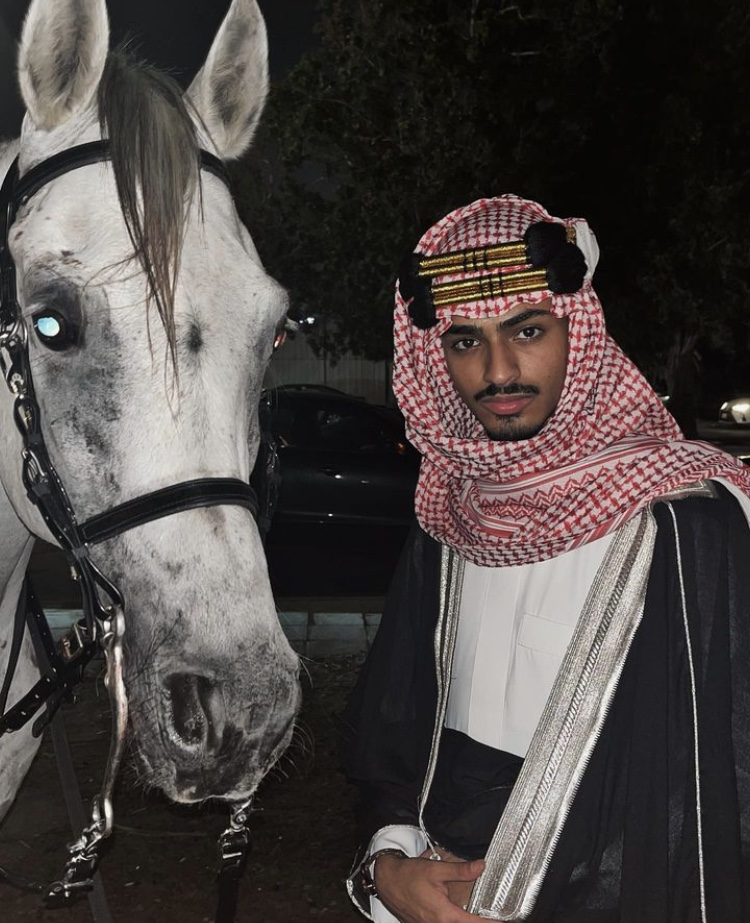Saudi_Founding_Day: (335, 187, 750, 922)
